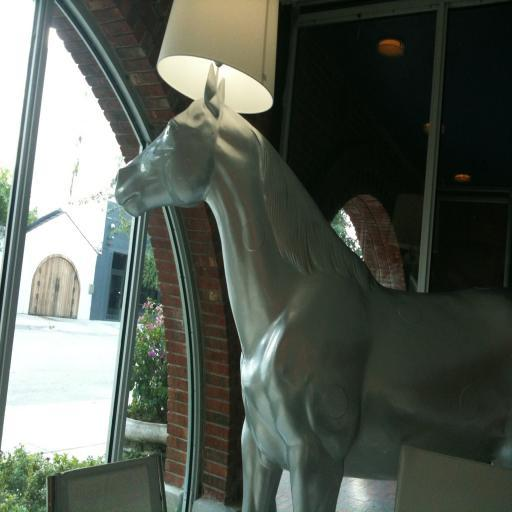Horse: (114, 60, 512, 512)
